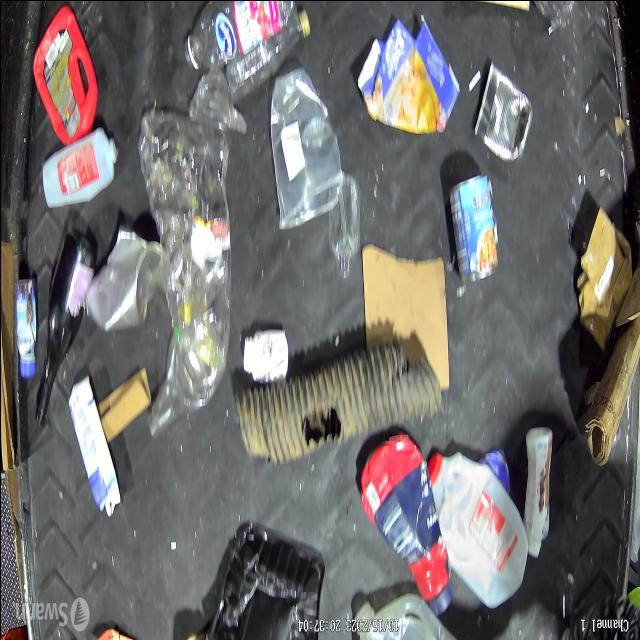can: (90, 218, 158, 340), (469, 57, 536, 169), (445, 165, 501, 290)
milk_jug: (422, 448, 530, 612)
non_white_jug: (34, 2, 98, 152)
plastic_bottle: (178, 1, 294, 82), (224, 11, 312, 105)
